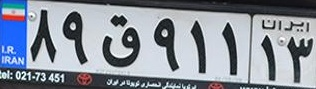character: (99, 10, 142, 69), (149, 14, 184, 74), (60, 7, 90, 68), (28, 7, 58, 66), (216, 15, 242, 77), (285, 34, 316, 83), (187, 16, 211, 77), (259, 32, 280, 82)
